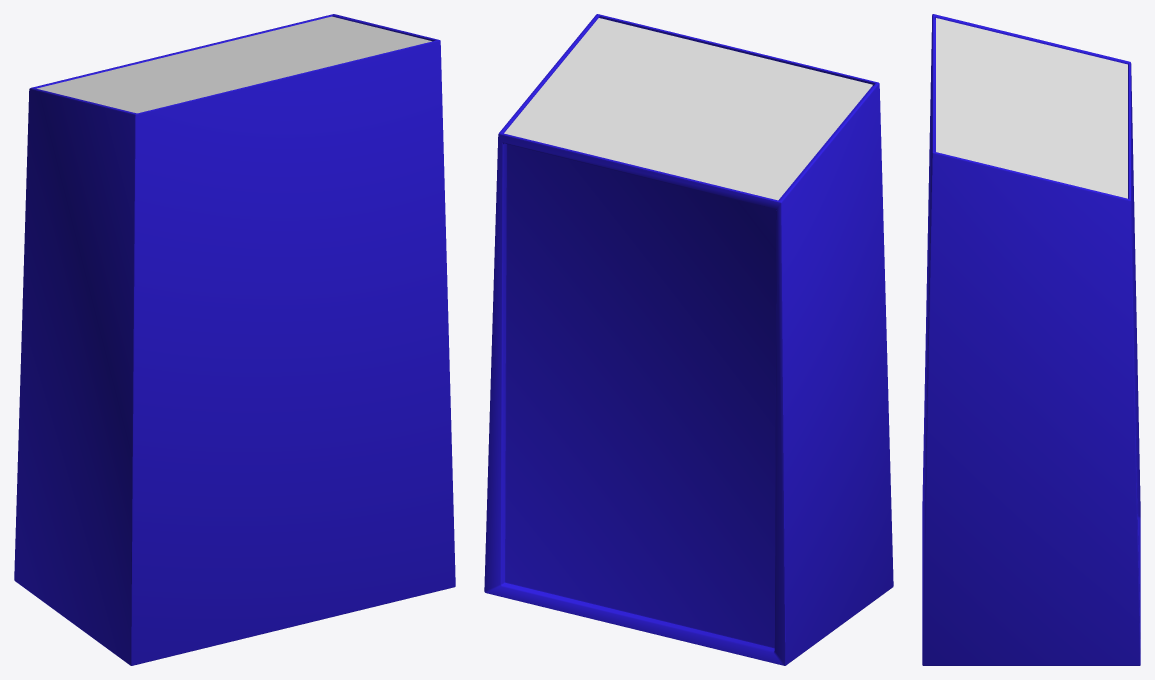
Rendered from Terminal.fbx.
The picture shows the model from 3 angles, left to right: view 1: azimuth 30°, elevation 25°; view 2: azimuth 150°, elevation 25°; view 3: azimuth 270°, elevation 25°; orthographic projection. The views are drawn at different scales.
Visible parts, largest first — view 1: TerminalBody, Screen; view 2: TerminalBody, Screen; view 3: TerminalBody, Screen.
Part boxes in pixels (x1,y1,x2,y2): TerminalBody: (14,14,455,665); Screen: (37,16,431,113); TerminalBody: (484,14,893,665); Screen: (504,18,872,200); TerminalBody: (922,14,1140,665); Screen: (936,18,1127,198).
Size of the model in its own units: 49.62 by 79.56 by 30.95.
